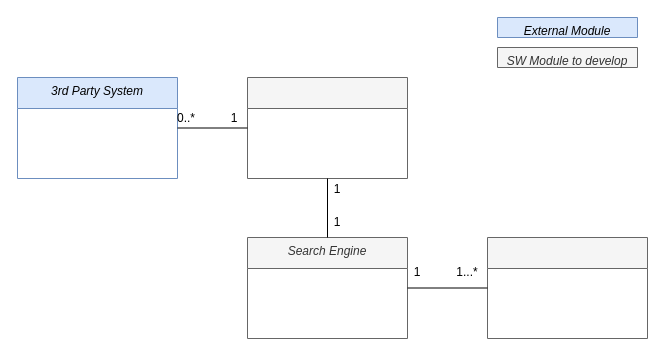
Some shapes in this 665 by 356 pixel diagram are drawn without their labels. The box of each missing label's shape, as (x1, y1, x2, y2) in pixels:
Employee DataBase: (486, 236, 648, 338)
UI: (246, 76, 408, 178)
